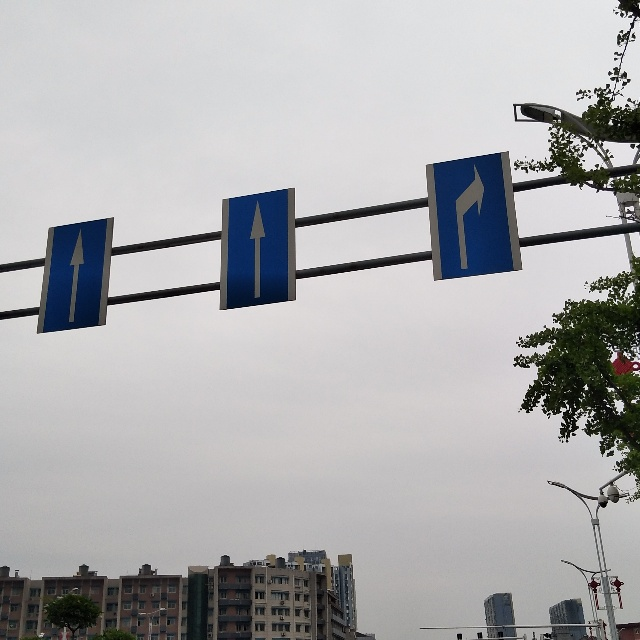right: (428, 156, 503, 271)
straight: (233, 199, 292, 306), (49, 221, 97, 327)
